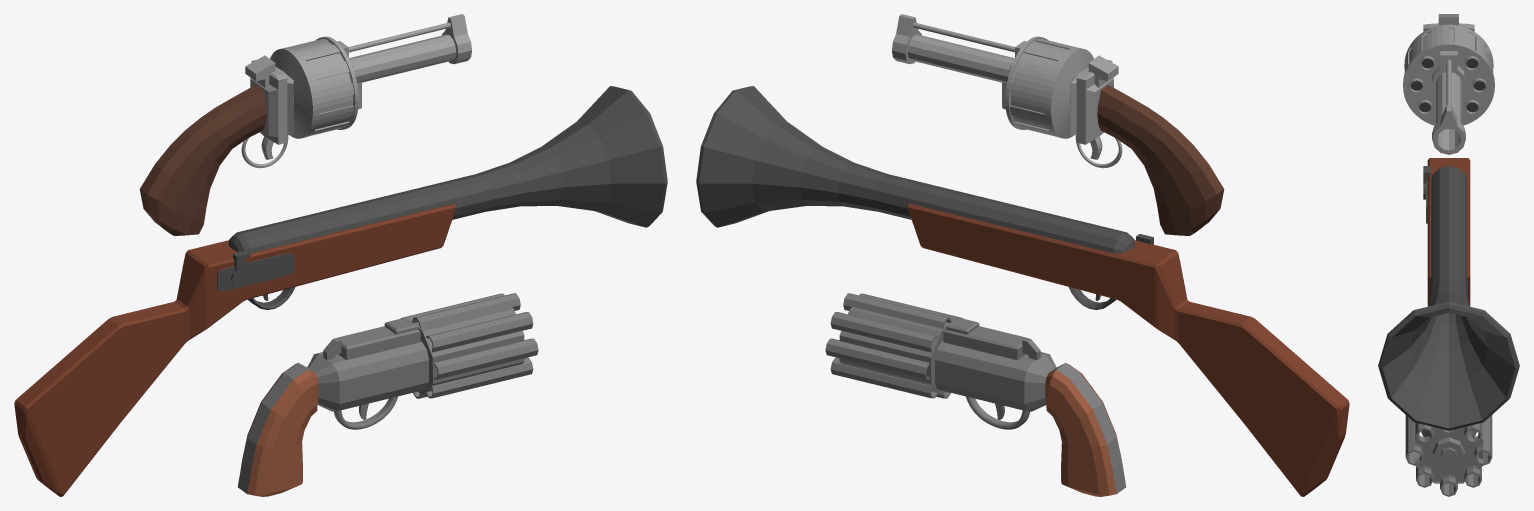
Rendered from antique guns.fbx.
3 renders of one model, left to right at view 1: azimuth 30°, elevation 25°; view 2: azimuth 150°, elevation 25°; view 3: azimuth 270°, elevation 25°, orthographic. The views are drawn at different scales.
Parts seen in each view (by area): view 1: blunderbuss, revolver, revolver2; view 2: blunderbuss, revolver, revolver2; view 3: blunderbuss, revolver2, revolver.
Part boxes in pixels (x1,y1,x2,y2): blunderbuss: (14, 86, 667, 496); revolver: (237, 293, 538, 496); revolver2: (139, 14, 472, 235); blunderbuss: (696, 86, 1349, 496); revolver: (825, 293, 1126, 496); revolver2: (892, 14, 1224, 235); blunderbuss: (1378, 158, 1519, 430); revolver2: (1403, 14, 1494, 154); revolver: (1405, 415, 1492, 496).
Size of the model in its own units: 894 by 606 by 185.
